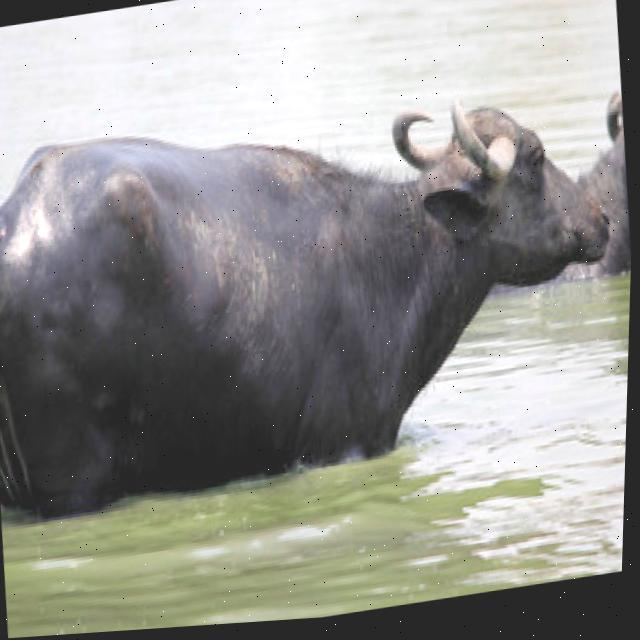Buffalo: (0, 51, 637, 535)
